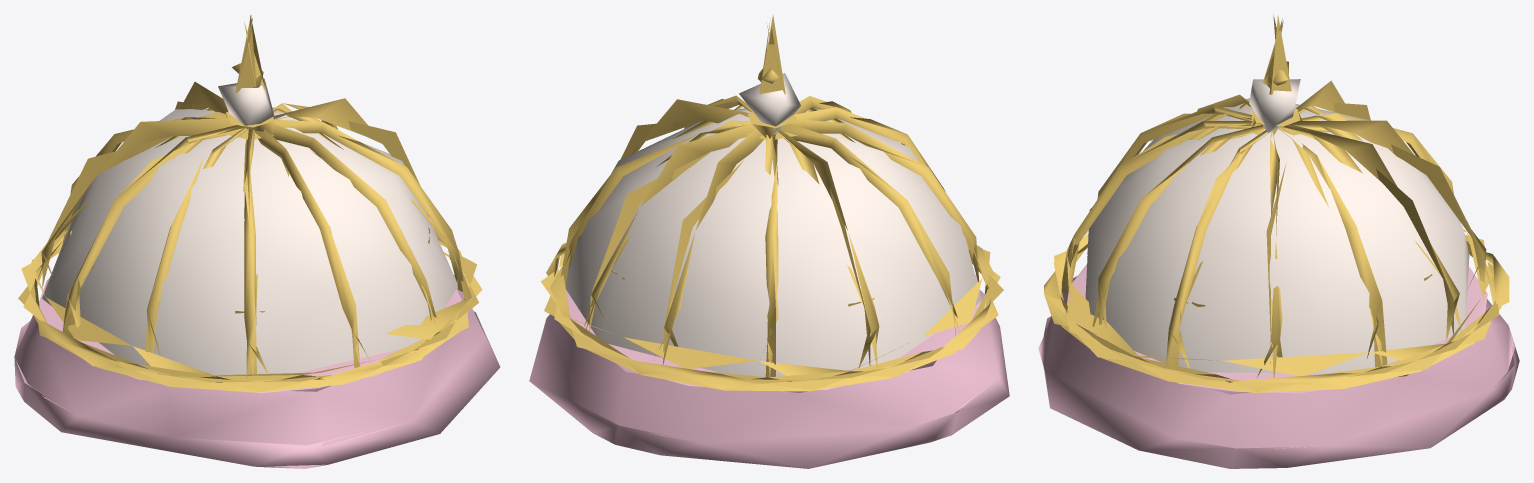
The model's file is lod_roof_dome_small.glb.
The picture shows the model from 3 angles, left to right: view 1: azimuth 30°, elevation 25°; view 2: azimuth 150°, elevation 25°; view 3: azimuth 270°, elevation 25°; orthographic projection.
Parts seen in each view (by area): view 1: roof_dome_small; view 2: roof_dome_small; view 3: roof_dome_small.
Part boxes in pixels (x1,y1,x2,y2): roof_dome_small: (14, 15, 500, 468); roof_dome_small: (529, 14, 1009, 468); roof_dome_small: (1038, 14, 1519, 468).
Bounding box in the file's own units: 3.28 × 2.63 × 3.21.
